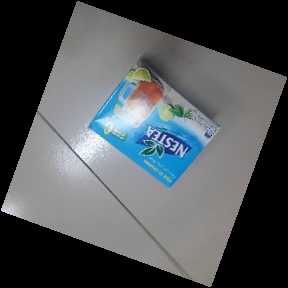Nestea: (88, 57, 221, 183)
